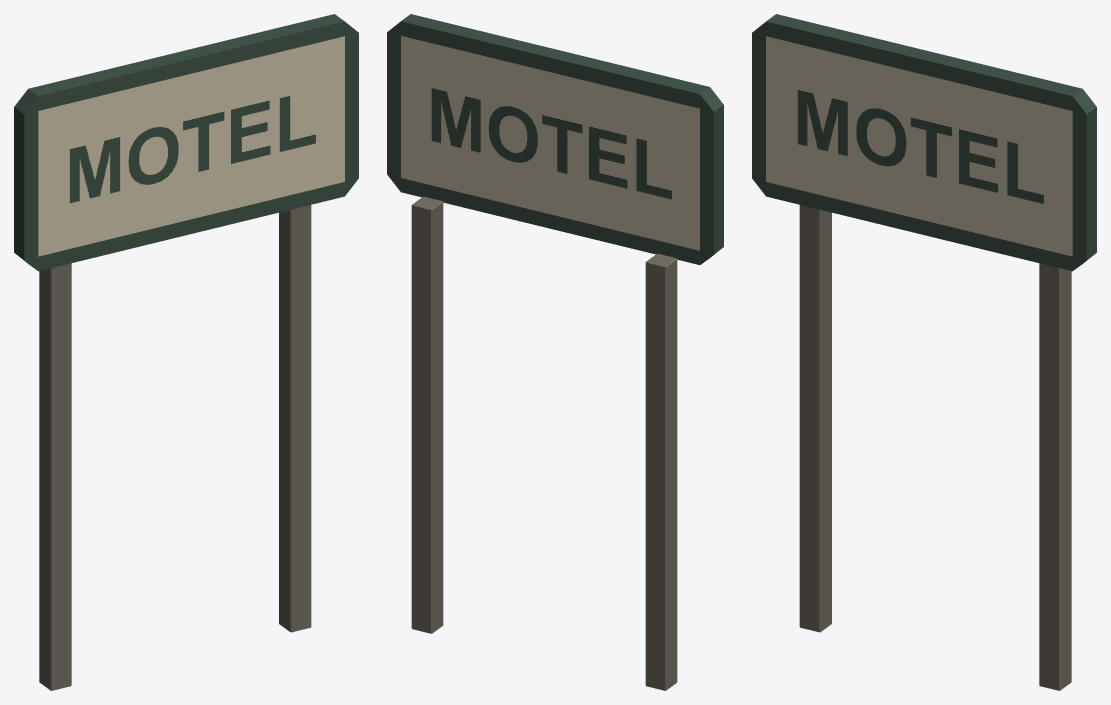
File: Motel_Roadside_Sign.fbx
3 views of the same model, side by side, from view 1: azimuth 30°, elevation 25°; view 2: azimuth 150°, elevation 25°; view 3: azimuth 330°, elevation 25° (orthographic). The views are drawn at different scales.
Visible parts, largest first — view 1: Motel_Roadside_Sign; view 2: Motel_Roadside_Sign; view 3: Motel_Roadside_Sign.
Part boxes in pixels (left/top/right/bottom): Motel_Roadside_Sign: left=14, top=14, right=358, bottom=690; Motel_Roadside_Sign: left=387, top=14, right=723, bottom=690; Motel_Roadside_Sign: left=752, top=14, right=1096, bottom=690.
Bounding box in the file's own units: 1.9 × 3.3 × 0.2205.
3 materials, 1 textured.
